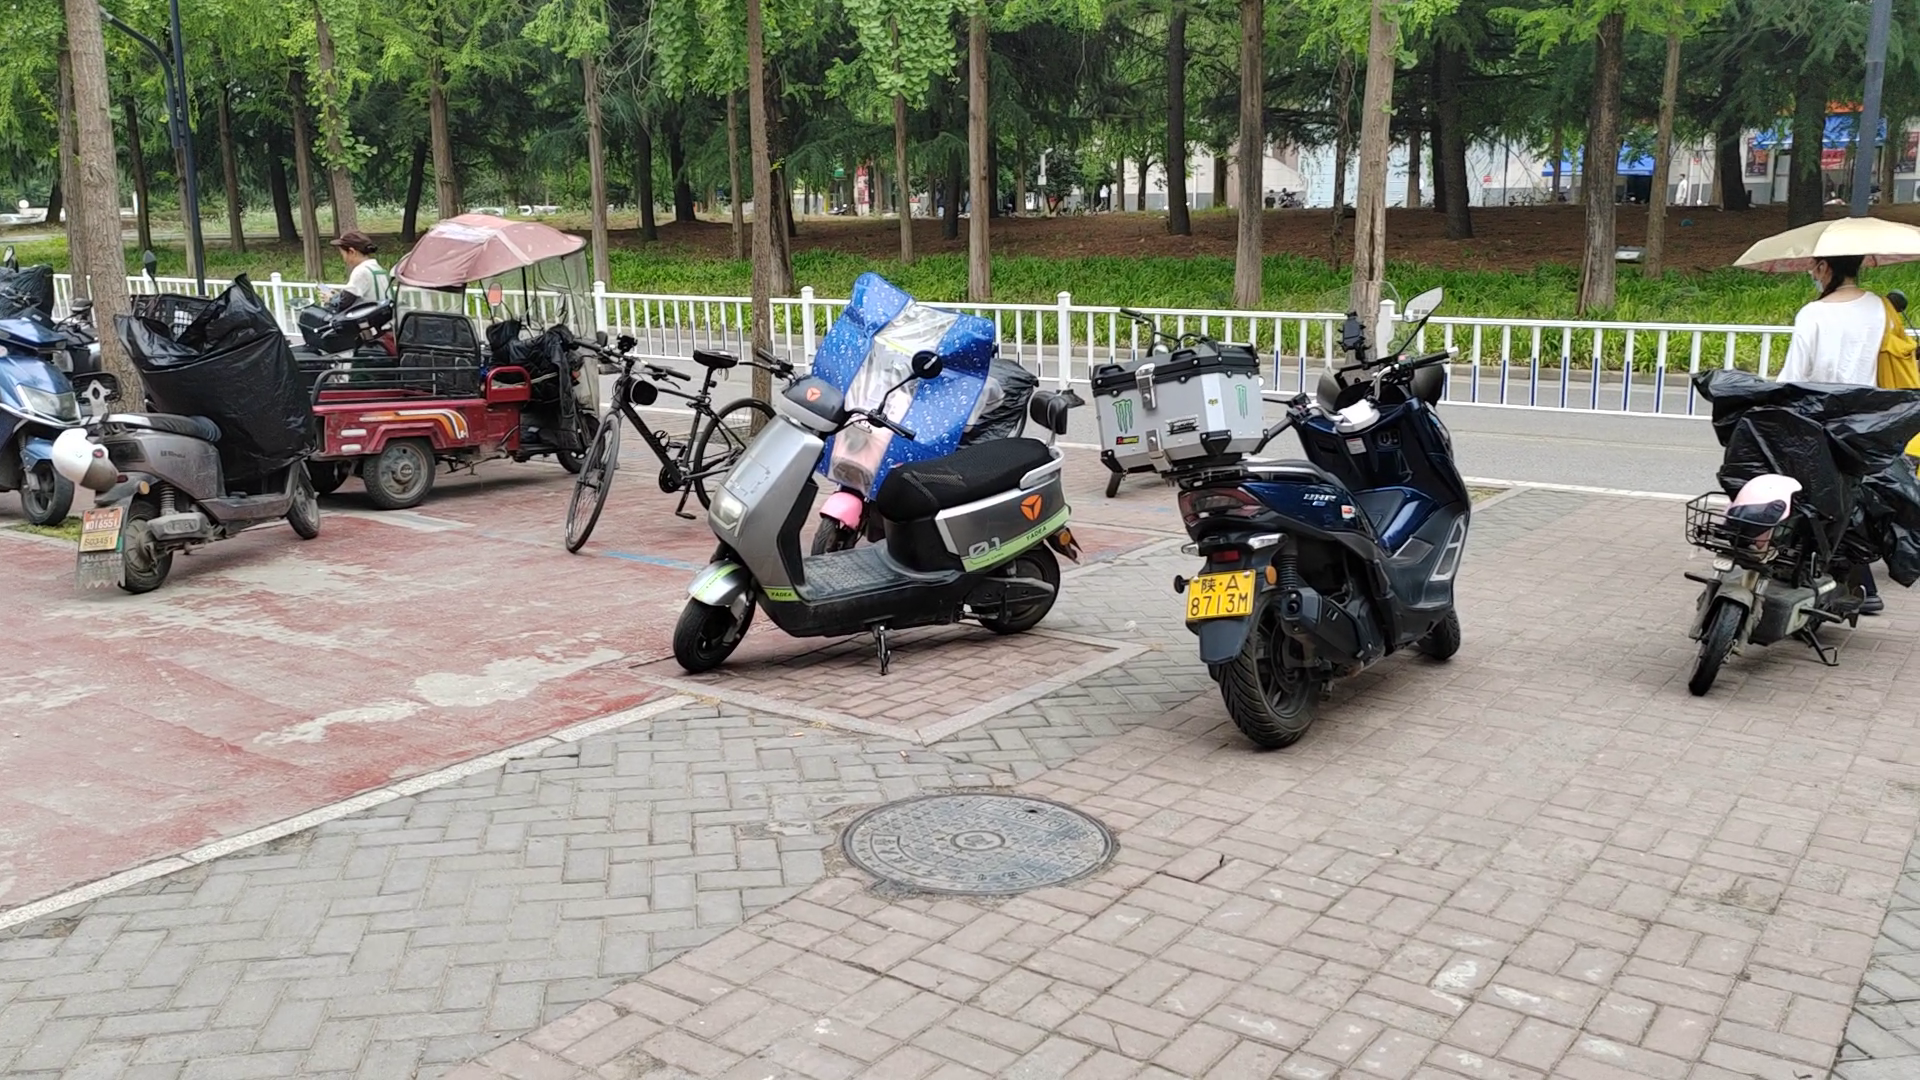others: (1120, 315, 1465, 723), (708, 324, 1073, 642), (1692, 364, 1920, 673), (61, 339, 335, 580), (535, 316, 771, 534), (3, 256, 74, 531)
